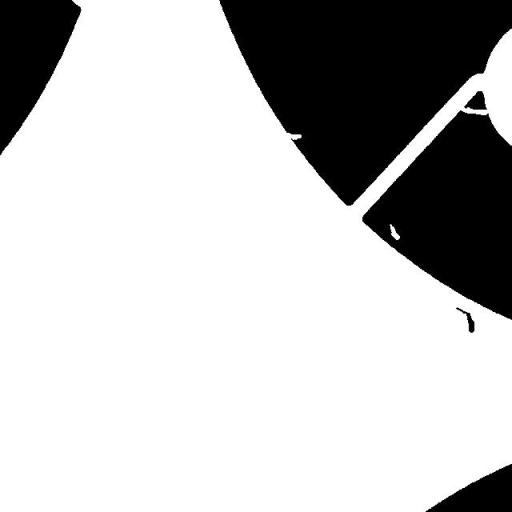copper: (448, 299, 482, 340)
mousebite: (278, 125, 308, 147)
open: (451, 98, 495, 122)
pin-hole: (382, 216, 407, 247)
